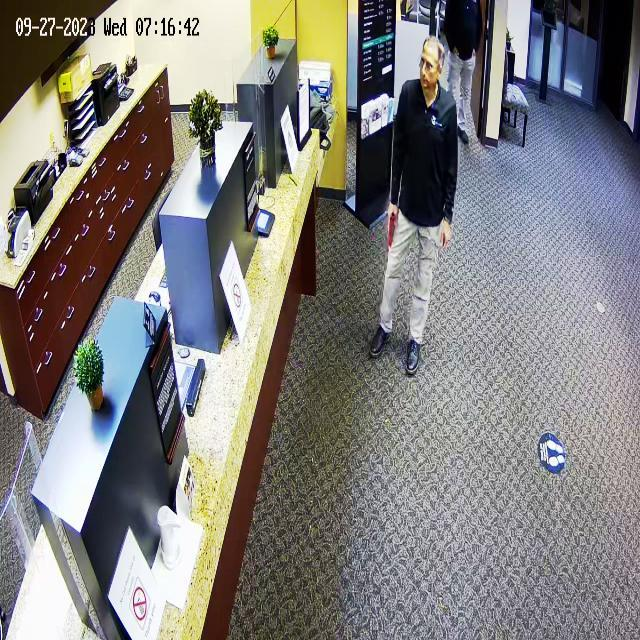Gun: (379, 199, 403, 266)
